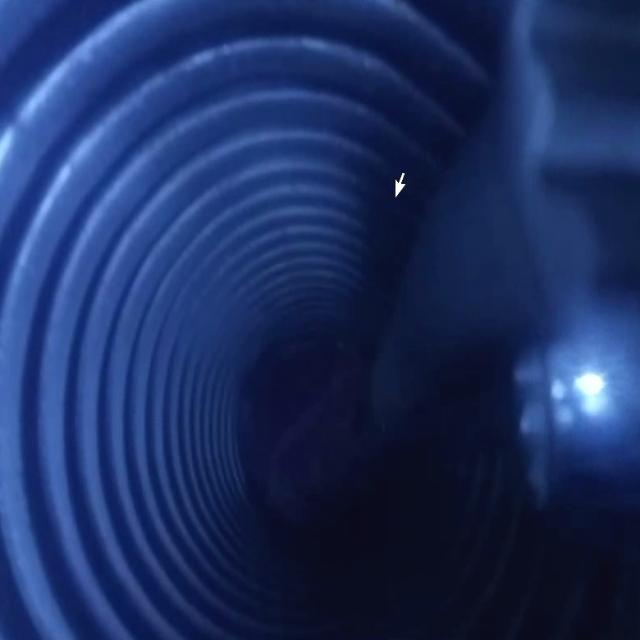metal piece: (507, 0, 640, 496)
